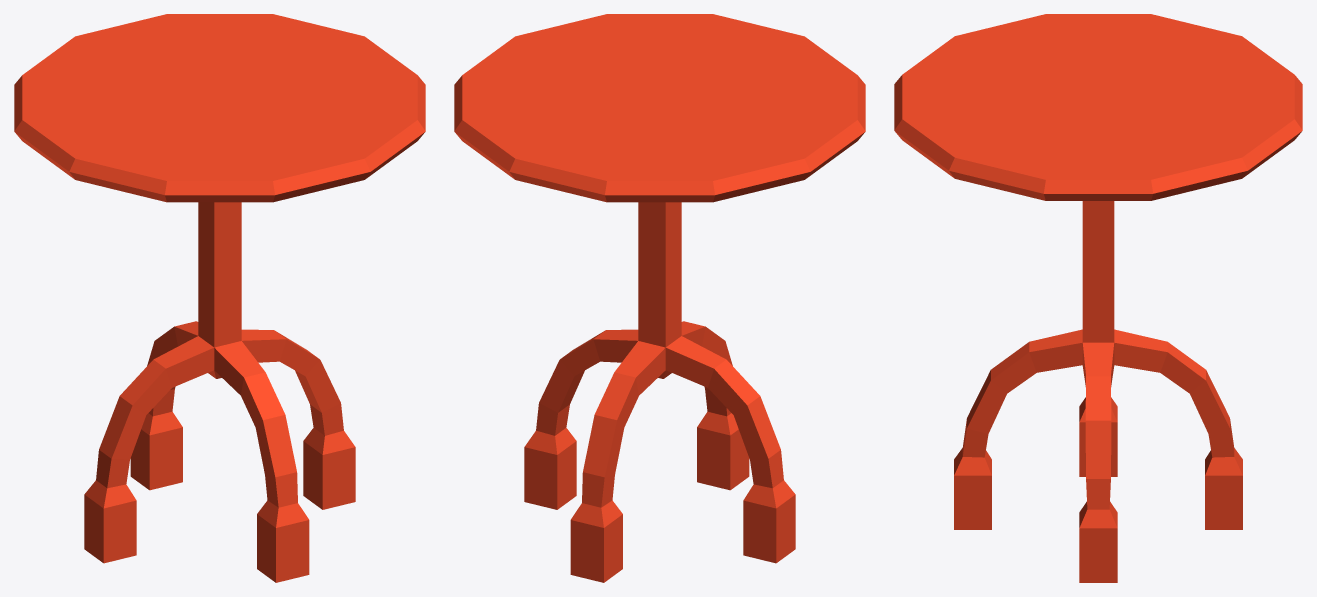
File: SM_Table_E_City.fbx
3 views of the same model, side by side, from view 1: azimuth 30°, elevation 25°; view 2: azimuth 150°, elevation 25°; view 3: azimuth 270°, elevation 25° (orthographic).
Parts seen in each view (by area): view 1: SM_Table_E_City; view 2: SM_Table_E_City; view 3: SM_Table_E_City.
Boxes of the visible parts, box(x1,y1,x2,y2) form: SM_Table_E_City: box(14, 14, 425, 582); SM_Table_E_City: box(454, 14, 865, 582); SM_Table_E_City: box(894, 14, 1302, 582).
Bounding box in the file's own units: 0.8435 × 0.9681 × 0.8435.
